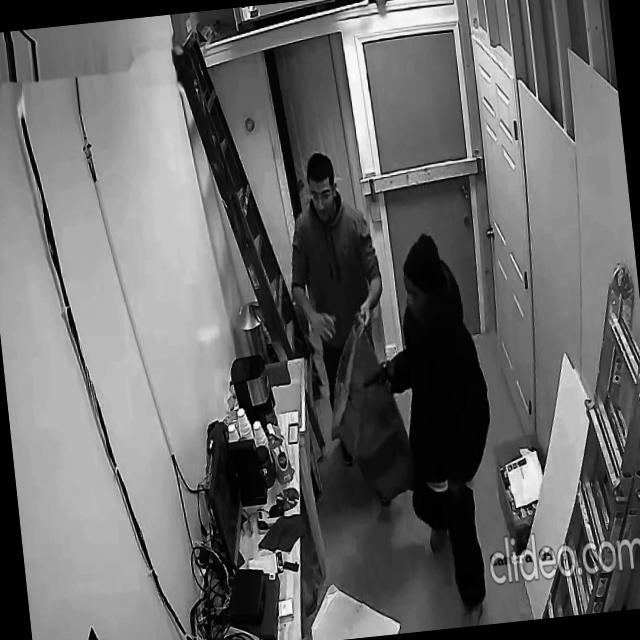gun: (361, 364, 394, 394)
person: (368, 225, 514, 632), (278, 144, 407, 515)
person with a gun: (346, 225, 514, 634)
